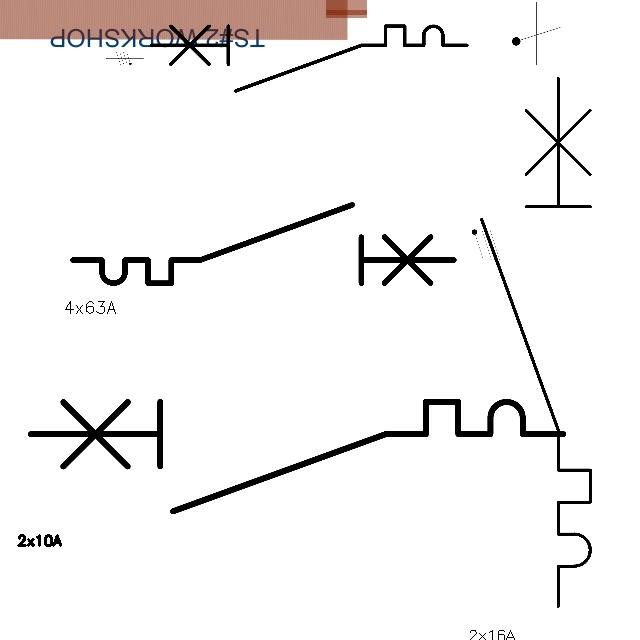interruptor_termomagnetico: (17, 388, 577, 525), (468, 64, 604, 620), (63, 195, 464, 293), (143, 18, 474, 99)
